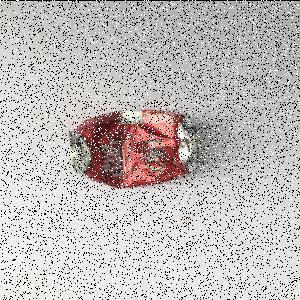Can: (67, 110, 201, 190)
